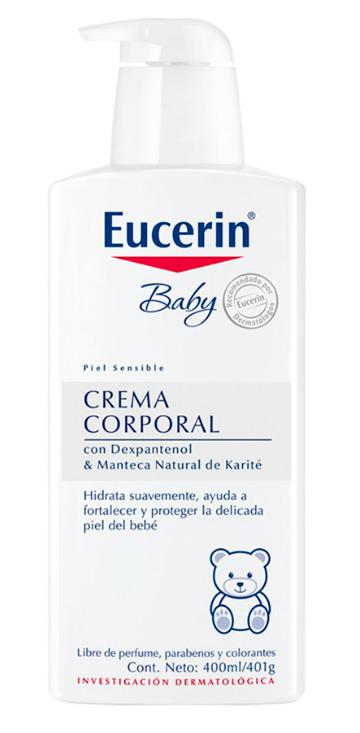brand: (100, 209, 254, 254)
extra_detail: (135, 274, 221, 330)
net_weight: (201, 659, 244, 674)
product_name: (79, 384, 225, 436)
